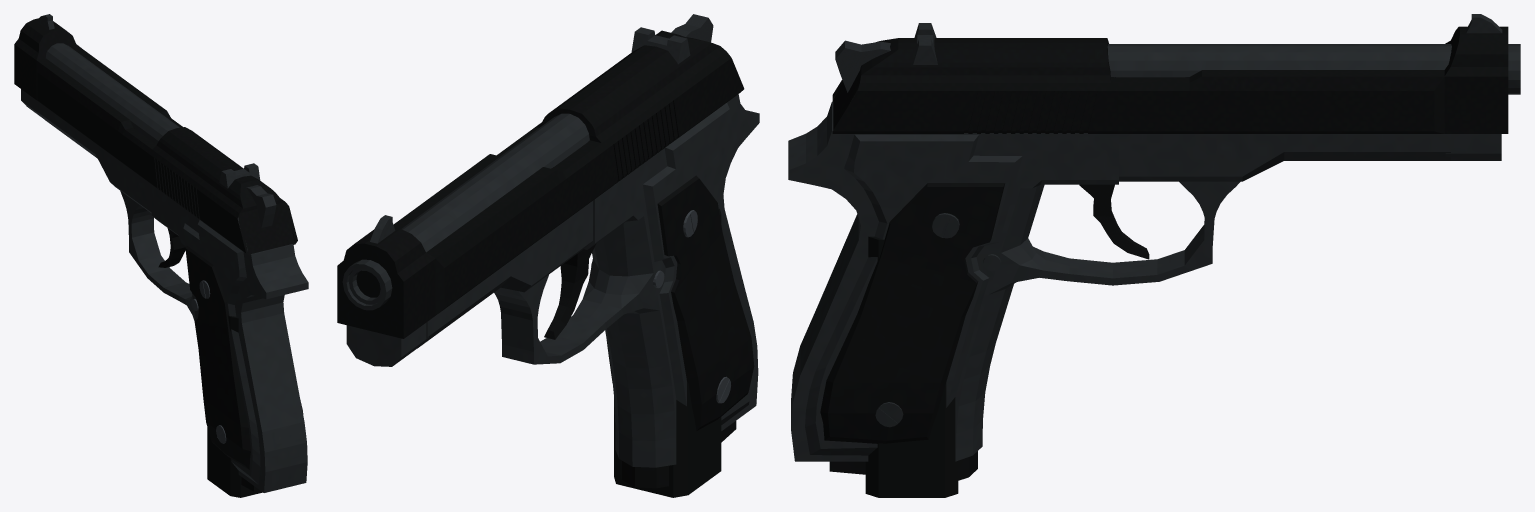
3 renders of one model, left to right at view 1: azimuth 30°, elevation 25°; view 2: azimuth 150°, elevation 25°; view 3: azimuth 270°, elevation 25°, orthographic. The views are drawn at different scales.
Visible parts, largest first — view 1: Frame, Slide, Magazine, Hammer, Trigger; view 2: Frame, Slide, Magazine, Trigger, Hammer; view 3: Frame, Slide, Magazine, Trigger, Hammer.
Part boxes in pixels (x1,y1,x2,y2): Frame: (21, 43, 308, 492); Slide: (14, 14, 297, 255); Magazine: (207, 315, 262, 497); Hammer: (246, 185, 276, 227); Trigger: (158, 228, 185, 267); Frame: (342, 90, 759, 488); Slide: (337, 27, 744, 338); Magazine: (614, 208, 721, 497); Trigger: (544, 243, 596, 339); Hammer: (671, 14, 713, 42); Frame: (788, 44, 1520, 480); Slide: (832, 14, 1508, 133); Magazine: (865, 236, 958, 497); Trigger: (1079, 184, 1149, 259); Hammer: (835, 40, 890, 92).
Size of the model in its own units: 0.0321 by 0.1546 by 0.2211.
3 materials, 3 textured.
